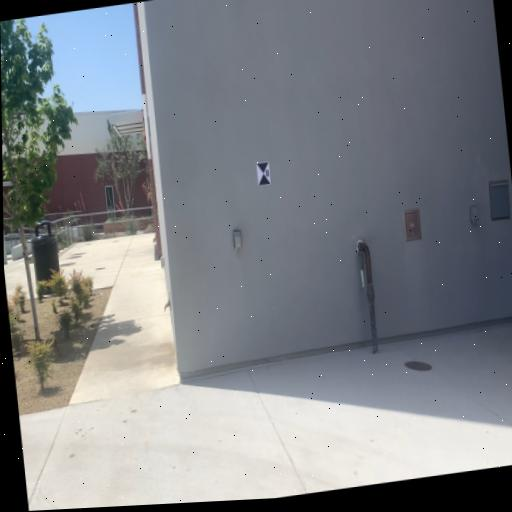target8: (256, 161, 271, 187)
